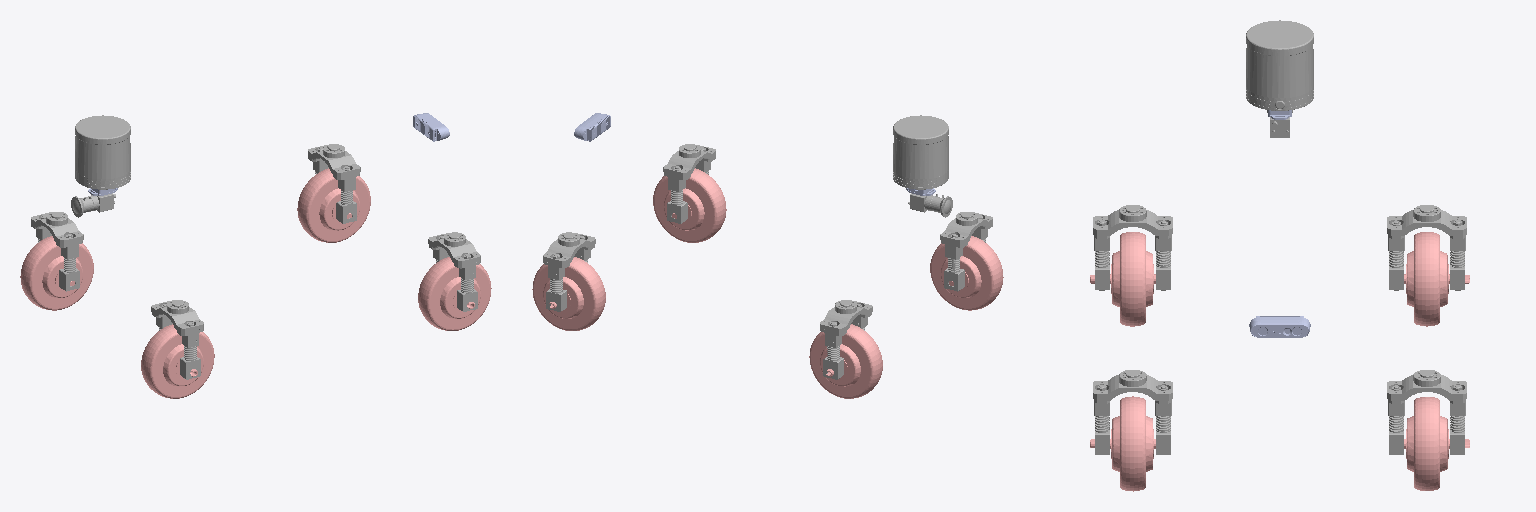
URDF robot description (omni_mobile_manipulator):
<?xml version="1.0" encoding="utf-8"?>
<!-- This URDF was automatically created by SolidWorks to URDF Exporter! Originally created by [author] ([email redacted]) 
     Commit Version: 1.5.1-0-g916b5db  Build Version: 1.5.7152.31018
     For more information, please see http://wiki.ros.org/sw_urdf_exporter -->
<robot name="omni_mobile_manipulator">
  <link name="base_link">
    <inertial>
      <origin
        xyz="-0.0107573806983678 -0.000121111379146382 0.168820068401291"
        rpy="0 0 0" />
      <mass
        value="7.75262327008847" />
      <inertia
        ixx="0.0674364406464489"
        ixy="2.6530001859869E-06"
        ixz="-2.02885454828053E-06"
        iyy="0.0607129183001536"
        iyz="-2.82546028667119E-08"
        izz="0.117886359812438" />
    </inertial>
    <visual>
      <origin
        xyz="0 0 0"
        rpy="0 0 0" />
      <geometry>
        <mesh
          filename="package://omni_mobile_manipulator/meshes/base_link.STL" />
      </geometry>
      <material
        name="">
        <color
          rgba="0.752941176470588 0.752941176470588 0.752941176470588 1" />
      </material>
    </visual>
    <collision>
      <origin
        xyz="0 0 0"
        rpy="0 0 0" />
      <geometry>
        <mesh
          filename="package://omni_mobile_manipulator/meshes/base_link.STL" />
      </geometry>
    </collision>
  </link>
  <link
    name="turn_front_left_link">
    <inertial>
      <origin
        xyz="2.4774E-06 -4.2768E-06 -0.041346"
        rpy="0 0 0" />
      <mass
        value="0.1509" />
      <inertia
        ixx="8.621E-05"
        ixy="-2.6953E-09"
        ixz="-8.1387E-10"
        iyy="5.4519E-05"
        iyz="1.5042E-09"
        izz="6.6419E-05" />
    </inertial>
    <visual>
      <origin
        xyz="0 0 0"
        rpy="0 0 0" />
      <geometry>
        <mesh
          filename="package://omni_mobile_manipulator/meshes/turn_front_left_link.STL" />
      </geometry>
      <material
        name="">
        <color
          rgba="0.75294 0.75294 0.75294 1" />
      </material>
    </visual>
    <collision>
      <origin
        xyz="0 0 0"
        rpy="0 0 0" />
      <geometry>
        <mesh
          filename="package://omni_mobile_manipulator/meshes/turn_front_left_link.STL" />
      </geometry>
    </collision>
  </link>
  <joint
    name="turn_front_left_link_joint"
    type="continuous">
    <origin
      xyz="0.285 0.215 0.1705"
      rpy="0 0 0" />
    <parent
      link="base_link" />
    <child
      link="turn_front_left_link" />
    <axis
      xyz="0 0 1" />
    <limit
      lower="-9999"
      upper="9999"
      effort="9999"
      velocity="9999" />
    <dynamics
      friction="0.01" />
  </joint>
  <link
    name="wheel_front_left_link">
    <inertial>
      <origin
        xyz="-6.7203E-07 -0.0039185 1.1995E-07"
        rpy="0 0 0" />
      <mass
        value="1.7978" />
      <inertia
        ixx="0.0022135"
        ixy="1.588E-07"
        ixz="2.5603E-08"
        iyy="0.003666"
        iyz="-1.0669E-08"
        izz="0.0022134" />
    </inertial>
    <visual>
      <origin
        xyz="0 0 0"
        rpy="0 0 0" />
      <geometry>
        <mesh
          filename="package://omni_mobile_manipulator/meshes/wheel_front_left_link.STL" />
      </geometry>
      <material
        name="">
        <color
          rgba="1 0.75294 0.75294 1" />
      </material>
    </visual>
    <collision>
      <origin
        xyz="0 0 0"
        rpy="0 0 0" />
      <geometry>
        <mesh
          filename="package://omni_mobile_manipulator/meshes/wheel_front_left_link.STL" />
      </geometry>
    </collision>
  </link>
  <joint
    name="wheel_front_left_link_joint"
    type="continuous">
    <origin
      xyz="0 0.0039 -0.101"
      rpy="0 0 0" />
    <parent
      link="turn_front_left_link" />
    <child
      link="wheel_front_left_link" />
    <axis
      xyz="0 1 0" />
    <limit
      lower="-9999"
      upper="9999"
      effort="9999"
      velocity="9999" />
    <dynamics
      friction="0.01" />
  </joint>
  <link
    name="turn_front_right_link">
    <inertial>
      <origin
        xyz="-2.4774E-06 4.2768E-06 -0.041346"
        rpy="0 0 0" />
      <mass
        value="0.1509" />
      <inertia
        ixx="8.621E-05"
        ixy="-2.6953E-09"
        ixz="8.1387E-10"
        iyy="5.4519E-05"
        iyz="-1.5042E-09"
        izz="6.6419E-05" />
    </inertial>
    <visual>
      <origin
        xyz="0 0 0"
        rpy="0 0 0" />
      <geometry>
        <mesh
          filename="package://omni_mobile_manipulator/meshes/turn_front_right_link.STL" />
      </geometry>
      <material
        name="">
        <color
          rgba="0.75294 0.75294 0.75294 1" />
      </material>
    </visual>
    <collision>
      <origin
        xyz="0 0 0"
        rpy="0 0 0" />
      <geometry>
        <mesh
          filename="package://omni_mobile_manipulator/meshes/turn_front_right_link.STL" />
      </geometry>
    </collision>
  </link>
  <joint
    name="turn_front_right_link_joint"
    type="continuous">
    <origin
      xyz="0.285 -0.215 0.1705"
      rpy="0 0 0" />
    <parent
      link="base_link" />
    <child
      link="turn_front_right_link" />
    <axis
      xyz="0 -1 0" />
    <limit
      lower="-9999"
      upper="9999"
      effort="9999"
      velocity="9999" />
    <dynamics
      friction="0.01" />
  </joint>
  <link
    name="wheel_front_right_link">
    <inertial>
      <origin
        xyz="6.7203E-07 0.0039185 1.1995E-07"
        rpy="0 0 0" />
      <mass
        value="1.7978" />
      <inertia
        ixx="0.0022135"
        ixy="1.588E-07"
        ixz="-2.5603E-08"
        iyy="0.003666"
        iyz="1.0669E-08"
        izz="0.0022134" />
    </inertial>
    <visual>
      <origin
        xyz="0 0 0"
        rpy="0 0 0" />
      <geometry>
        <mesh
          filename="package://omni_mobile_manipulator/meshes/wheel_front_right_link.STL" />
      </geometry>
      <material
        name="">
        <color
          rgba="1 0.75294 0.75294 1" />
      </material>
    </visual>
    <collision>
      <origin
        xyz="0 0 0"
        rpy="0 0 0" />
      <geometry>
        <mesh
          filename="package://omni_mobile_manipulator/meshes/wheel_front_right_link.STL" />
      </geometry>
    </collision>
  </link>
  <joint
    name="wheel_front_right_link_joint"
    type="continuous">
    <origin
      xyz="0 -0.0039 -0.101"
      rpy="0 0 0" />
    <parent
      link="turn_front_right_link" />
    <child
      link="wheel_front_right_link" />
    <axis
      xyz="0 -1 0" />
    <limit
      lower="-9999"
      upper="9999"
      effort="9999"
      velocity="9999" />
    <dynamics
      friction="0.01" />
  </joint>
  <link
    name="turn_back_left_link">
    <inertial>
      <origin
        xyz="2.47739936293234E-06 -0.00390427681696906 0.0596537478356015"
        rpy="0 0 0" />
      <mass
        value="0.150899435444674" />
      <inertia
        ixx="8.62104557625573E-05"
        ixy="-2.69534706876987E-09"
        ixz="-8.13867681148677E-10"
        iyy="5.45191084176943E-05"
        iyz="1.50418273401286E-09"
        izz="6.64192852433824E-05" />
    </inertial>
    <visual>
      <origin
        xyz="0 0 0"
        rpy="0 0 0" />
      <geometry>
        <mesh
          filename="package://omni_mobile_manipulator/meshes/turn_back_left_link.STL" />
      </geometry>
      <material
        name="">
        <color
          rgba="0.752941176470588 0.752941176470588 0.752941176470588 1" />
      </material>
    </visual>
    <collision>
      <origin
        xyz="0 0 0"
        rpy="0 0 0" />
      <geometry>
        <mesh
          filename="package://omni_mobile_manipulator/meshes/turn_back_left_link.STL" />
      </geometry>
    </collision>
  </link>
  <joint
    name="turn_back_left_link_joint"
    type="continuous">
    <origin
      xyz="-0.285 0.2189 0.0695"
      rpy="0 0 0" />
    <parent
      link="base_link" />
    <child
      link="turn_back_left_link" />
    <axis
      xyz="0 0 1" />
    <limit
      lower="-9999"
      upper="9999"
      effort="9999"
      velocity="9999" />
    <dynamics
      friction="0.01" />
  </joint>
  <link
    name="wheel_back_left_link">
    <inertial>
      <origin
        xyz="-6.7203E-07 -0.0039185 1.1995E-07"
        rpy="0 0 0" />
      <mass
        value="1.7978" />
      <inertia
        ixx="0.0022135"
        ixy="1.588E-07"
        ixz="2.5603E-08"
        iyy="0.003666"
        iyz="-1.0669E-08"
        izz="0.0022134" />
    </inertial>
    <visual>
      <origin
        xyz="0 0 0"
        rpy="0 0 0" />
      <geometry>
        <mesh
          filename="package://omni_mobile_manipulator/meshes/wheel_back_left_link.STL" />
      </geometry>
      <material
        name="">
        <color
          rgba="1 0.75294 0.75294 1" />
      </material>
    </visual>
    <collision>
      <origin
        xyz="0 0 0"
        rpy="0 0 0" />
      <geometry>
        <mesh
          filename="package://omni_mobile_manipulator/meshes/wheel_back_left_link.STL" />
      </geometry>
    </collision>
  </link>
  <joint
    name="wheel_back_left_link_joint"
    type="continuous">
    <origin
      xyz="0 0 0"
      rpy="0 0 0" />
    <parent
      link="turn_back_left_link" />
    <child
      link="wheel_back_left_link" />
    <axis
      xyz="0 -1 0" />
    <limit
      lower="-9999"
      upper="9999"
      effort="9999"
      velocity="9999" />
    <dynamics
      friction="0.01" />
  </joint>
  <link
    name="turn_back_right_link">
    <inertial>
      <origin
        xyz="-2.4774E-06 4.2768E-06 -0.041346"
        rpy="0 0 0" />
      <mass
        value="0.1509" />
      <inertia
        ixx="8.621E-05"
        ixy="-2.6953E-09"
        ixz="8.1387E-10"
        iyy="5.4519E-05"
        iyz="-1.5042E-09"
        izz="6.6419E-05" />
    </inertial>
    <visual>
      <origin
        xyz="0 0 0"
        rpy="0 0 0" />
      <geometry>
        <mesh
          filename="package://omni_mobile_manipulator/meshes/turn_back_right_link.STL" />
      </geometry>
      <material
        name="">
        <color
          rgba="0.75294 0.75294 0.75294 1" />
      </material>
    </visual>
    <collision>
      <origin
        xyz="0 0 0"
        rpy="0 0 0" />
      <geometry>
        <mesh
          filename="package://omni_mobile_manipulator/meshes/turn_back_right_link.STL" />
      </geometry>
    </collision>
  </link>
  <joint
    name="turn_back_right_link_joint"
    type="continuous">
    <origin
      xyz="-0.285 -0.215 0.1705"
      rpy="0 0 0" />
    <parent
      link="base_link" />
    <child
      link="turn_back_right_link" />
    <axis
      xyz="0 0 1" />
    <limit
      lower="-9999"
      upper="9999"
      effort="9999"
      velocity="9999" />
    <dynamics
      friction="0.01" />
  </joint>
  <link
    name="wheel_back_right_link">
    <inertial>
      <origin
        xyz="6.7203E-07 0.0039185 1.1995E-07"
        rpy="0 0 0" />
      <mass
        value="1.7978" />
      <inertia
        ixx="0.0022135"
        ixy="1.588E-07"
        ixz="-2.5603E-08"
        iyy="0.003666"
        iyz="1.0669E-08"
        izz="0.0022134" />
    </inertial>
    <visual>
      <origin
        xyz="0 0 0"
        rpy="0 0 0" />
      <geometry>
        <mesh
          filename="package://omni_mobile_manipulator/meshes/wheel_back_right_link.STL" />
      </geometry>
      <material
        name="">
        <color
          rgba="1 0.75294 0.75294 1" />
      </material>
    </visual>
    <collision>
      <origin
        xyz="0 0 0"
        rpy="0 0 0" />
      <geometry>
        <mesh
          filename="package://omni_mobile_manipulator/meshes/wheel_back_right_link.STL" />
      </geometry>
    </collision>
  </link>
  <joint
    name="wheel_back_right_link_joint"
    type="continuous">
    <origin
      xyz="0 -0.0039 -0.101"
      rpy="0 0 0" />
    <parent
      link="turn_back_right_link" />
    <child
      link="wheel_back_right_link" />
    <axis
      xyz="0 1 0" />
    <limit
      lower="-9999"
      upper="9999"
      effort="9999"
      velocity="9999" />
  </joint>
  <link
    name="camera_front_link">
    <inertial>
      <origin
        xyz="-0.0046595 0.00026537 3.6317E-05"
        rpy="0 0 0" />
      <mass
        value="0.018758" />
      <inertia
        ixx="1.3987E-05"
        ixy="-4.7593E-09"
        ixz="1.2059E-08"
        iyy="1.7467E-06"
        iyz="-1.0206E-08"
        izz="1.3253E-05" />
    </inertial>
    <visual>
      <origin
        xyz="0 0 0"
        rpy="0 0 0" />
      <geometry>
        <mesh
          filename="package://omni_mobile_manipulator/meshes/camera_front_link.STL" />
      </geometry>
      <material
        name="">
        <color
          rgba="0.79216 0.81961 0.93333 1" />
      </material>
    </visual>
    <collision>
      <origin
        xyz="0 0 0"
        rpy="0 0 0" />
      <geometry>
        <mesh
          filename="package://omni_mobile_manipulator/meshes/camera_front_link.STL" />
      </geometry>
    </collision>
  </link>
  <joint
    name="camera_front_llink_joint"
    type="fixed">
    <origin
      xyz="0.36265 0 0.2925"
      rpy="0 0 0" />
    <parent
      link="base_link" />
    <child
      link="camera_front_link" />
    <axis
      xyz="0 0 0" />
  </joint>
  <link
    name="camera_back_link">
    <inertial>
      <origin
        xyz="0.0037648 3.8069E-05 2.4949E-05"
        rpy="0 0 0" />
      <mass
        value="0.059314" />
      <inertia
        ixx="7.025E-06"
        ixy="3.9072E-08"
        ixz="-1.1912E-08"
        iyy="1.2549E-05"
        iyz="-3.1998E-08"
        izz="1.2542E-05" />
    </inertial>
    <visual>
      <origin
        xyz="0 0 0"
        rpy="0 0 0" />
      <geometry>
        <mesh
          filename="package://omni_mobile_manipulator/meshes/camera_back_link.STL" />
      </geometry>
      <material
        name="">
        <color
          rgba="0.75294 0.75294 0.75294 1" />
      </material>
    </visual>
    <collision>
      <origin
        xyz="0 0 0"
        rpy="0 0 0" />
      <geometry>
        <mesh
          filename="package://omni_mobile_manipulator/meshes/camera_back_link.STL" />
      </geometry>
    </collision>
  </link>
  <joint
    name="camera_back_llink_joint"
    type="fixed">
    <origin
      xyz="-0.33 0 0.305"
      rpy="0 0 3.1416" />
    <parent
      link="base_link" />
    <child
      link="camera_back_link" />
    <axis
      xyz="0 0 0" />
  </joint>
  <link
    name="imu_link">
    <inertial>
      <origin
        xyz="-2.2669510901796E-07 6.98733953790323E-05 0.00409243345535182"
        rpy="0 0 0" />
      <mass
        value="0.0188120969371347" />
      <inertia
        ixx="2.19917722590059E-06"
        ixy="-1.80548375294379E-13"
        ixz="3.35094597271515E-11"
        iyy="2.54598735456485E-06"
        iyz="-1.1731328952741E-09"
        izz="4.02133166732051E-06" />
    </inertial>
    <visual>
      <origin
        xyz="0 0 0"
        rpy="0 0 0" />
      <geometry>
        <mesh
          filename="package://omni_mobile_manipulator/meshes/imu_link.STL" />
      </geometry>
      <material
        name="">
        <color
          rgba="0.792156862745098 0.819607843137255 0.933333333333333 1" />
      </material>
    </visual>
    <collision>
      <origin
        xyz="0 0 0"
        rpy="0 0 0" />
      <geometry>
        <mesh
          filename="package://omni_mobile_manipulator/meshes/imu_link.STL" />
      </geometry>
    </collision>
  </link>
  <joint
    name="imu_link_joint"
    type="fixed">
    <origin
      xyz="-0.315 0 0.3275"
      rpy="0 0 3.1416" />
    <parent
      link="base_link" />
    <child
      link="imu_link" />
    <axis
      xyz="0 0 0" />
  </joint>
  <link
    name="laser_link">
    <inertial>
      <origin
        xyz="-0.00020425 6.2464E-06 -0.032986"
        rpy="0 0 0" />
      <mass
        value="0.2218" />
      <inertia
        ixx="0.00021546"
        ixy="-5.4119E-10"
        ixz="-6.7808E-08"
        iyy="0.00021361"
        iyz="1.1157E-08"
        izz="0.00033669" />
    </inertial>
    <visual>
      <origin
        xyz="0 0 0"
        rpy="0 0 0" />
      <geometry>
        <mesh
          filename="package://omni_mobile_manipulator/meshes/laser_link.STL" />
      </geometry>
      <material
        name="">
        <color
          rgba="0.75294 0.75294 0.75294 1" />
      </material>
    </visual>
    <collision>
      <origin
        xyz="0 0 0"
        rpy="0 0 0" />
      <geometry>
        <mesh
          filename="package://omni_mobile_manipulator/meshes/laser_link.STL" />
      </geometry>
    </collision>
  </link>
  <joint
    name="laser_link_joint"
    type="fixed">
    <origin
      xyz="-0.315 0 0.413"
      rpy="0 0 3.1416" />
    <parent
      link="base_link" />
    <child
      link="laser_link" />
    <axis
      xyz="0 0 0" />
  </joint>
  <link
    name="robot_link">
    <inertial>
      <origin
        xyz="0 0 0"
        rpy="0 0 0" />
      <mass
        value="0" />
      <inertia
        ixx="0"
        ixy="0"
        ixz="0"
        iyy="0"
        iyz="0"
        izz="0" />
    </inertial>
  </link>
  <joint
    name="robot_link_joint"
    type="fixed">
    <origin
      xyz="0.282499999999994 0 0.274499999999996"
      rpy="0 0 0" />
    <parent
      link="base_link" />
    <child
      link="robot_link" />
    <axis
      xyz="0 0 0" />
  </joint>
</robot>

--- Render facts (derived) ---
3 views of the same robot in one strip: view 1: azimuth 30°, elevation 25°; view 2: azimuth 150°, elevation 25°; view 3: azimuth 270°, elevation 25° (orthographic).
Model omni_mobile_manipulator with 14 links and 13 joints (8 continuous, 5 fixed), rooted at base_link, posed all joints at 0.
Visible links, largest first — view 1: laser_link, wheel_back_right_link, wheel_front_right_link, wheel_back_left_link, wheel_front_left_link, turn_front_left_link, turn_back_left_link, turn_front_right_link, turn_back_right_link, camera_back_link, camera_front_link; view 2: laser_link, wheel_back_left_link, wheel_front_left_link, wheel_front_right_link, wheel_back_right_link, turn_front_right_link, turn_back_right_link, turn_front_left_link, turn_back_left_link, camera_back_link, camera_front_link; view 3: laser_link, turn_back_left_link, turn_back_right_link, wheel_front_right_link, wheel_back_right_link, wheel_back_left_link, wheel_front_left_link, turn_front_right_link, turn_front_left_link, camera_front_link.
Boxes of the visible links, x1,y1,x2,y2 form: laser_link: (75,115,130,189); wheel_back_right_link: (141,324,214,398); wheel_front_right_link: (418,257,491,330); wheel_back_left_link: (20,236,93,310); wheel_front_left_link: (297,168,370,242); turn_front_left_link: (308,144,360,223); turn_back_left_link: (31,212,83,291); turn_front_right_link: (428,232,480,311); turn_back_right_link: (151,300,203,379); camera_back_link: (71,193,115,217); camera_front_link: (413,113,449,141); laser_link: (893,115,948,189); wheel_back_left_link: (809,324,882,398); wheel_front_left_link: (532,257,605,330); wheel_front_right_link: (653,168,726,242); wheel_back_right_link: (930,236,1003,310); turn_front_right_link: (663,144,715,223); turn_back_right_link: (940,212,992,291); turn_front_left_link: (543,232,595,311); turn_back_left_link: (820,300,872,379); camera_back_link: (908,193,952,217); camera_front_link: (574,113,610,141); laser_link: (1246,20,1313,110); turn_back_left_link: (1387,205,1466,290); turn_back_right_link: (1093,205,1172,290); wheel_front_right_link: (1090,396,1155,491); wheel_back_right_link: (1090,232,1155,326); wheel_back_left_link: (1404,232,1469,326); wheel_front_left_link: (1404,397,1469,490); turn_front_right_link: (1093,370,1172,454); turn_front_left_link: (1387,370,1466,454); camera_front_link: (1249,316,1310,337).
Bounding box of the posed robot: 0.748 × 0.5538 × 0.45 m (x, y, z).
Meshes: 13 distinct files referenced, 12 mesh visuals loaded (12 binary STL); not drawn: 1 (reference not matched to a file when rendering).